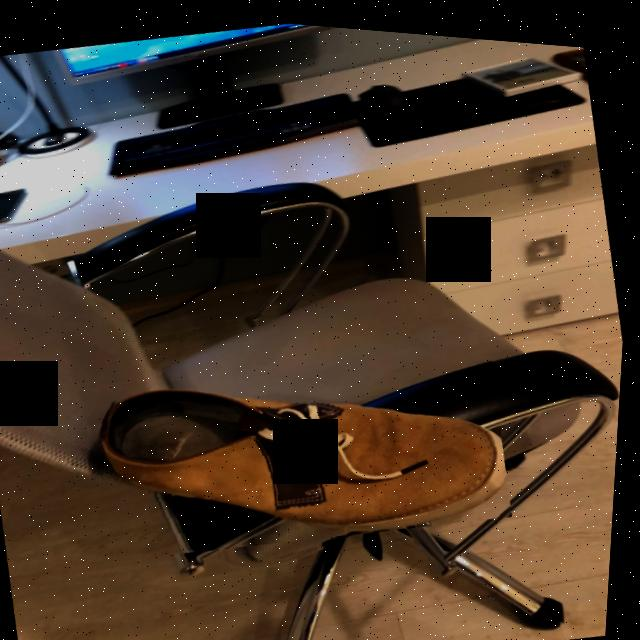shoe: (103, 387, 513, 527)
